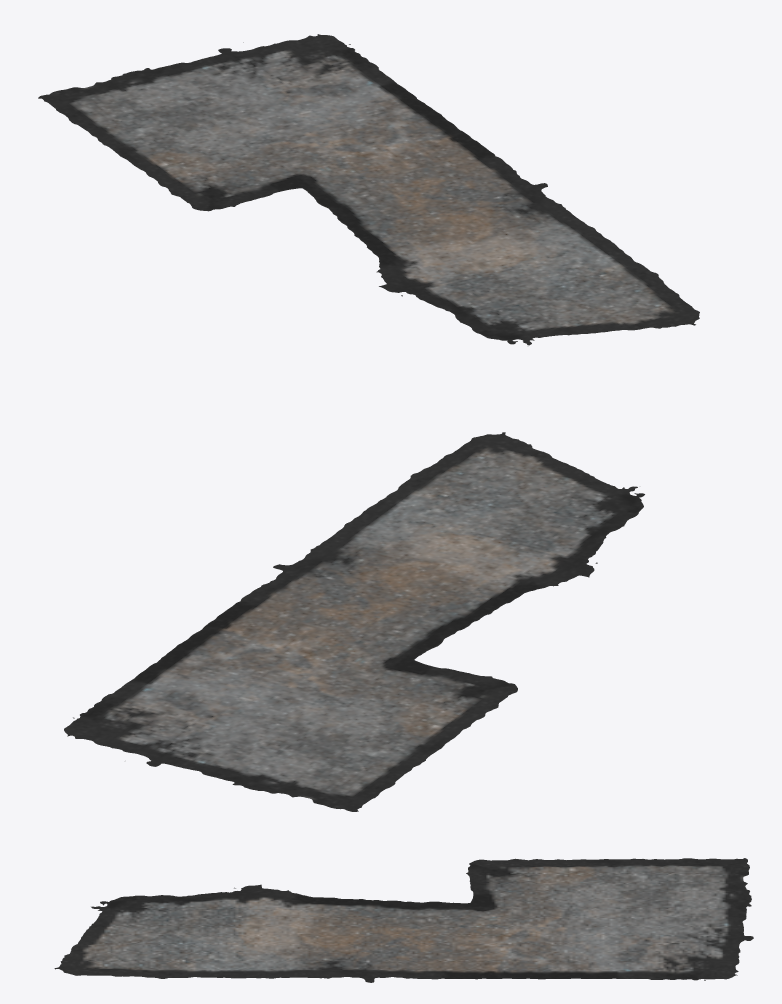
File: HH_Decal_Asphalt_05.fbx
3 views of the same model, one above another, from view 1: azimuth 30°, elevation 25°; view 2: azimuth 150°, elevation 25°; view 3: azimuth 270°, elevation 25° (orthographic). The views are drawn at different scales.
Visible parts, largest first — view 1: HH_Decal_Asphalt_06; view 2: HH_Decal_Asphalt_06; view 3: HH_Decal_Asphalt_06.
Part boxes in pixels (box(x1,y1,x2,y2)): HH_Decal_Asphalt_06: box(38, 34, 699, 345); HH_Decal_Asphalt_06: box(64, 432, 644, 811); HH_Decal_Asphalt_06: box(54, 858, 753, 982).
Bounding box in the file's own units: 135 × 0 × 316.
